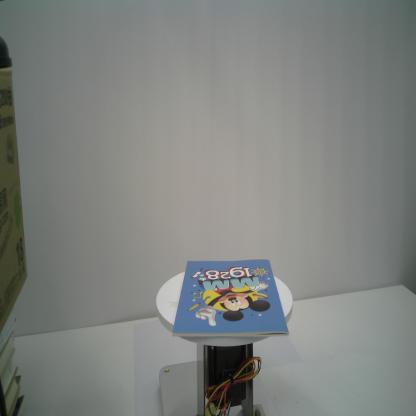Stationery: (171, 259, 290, 338)
